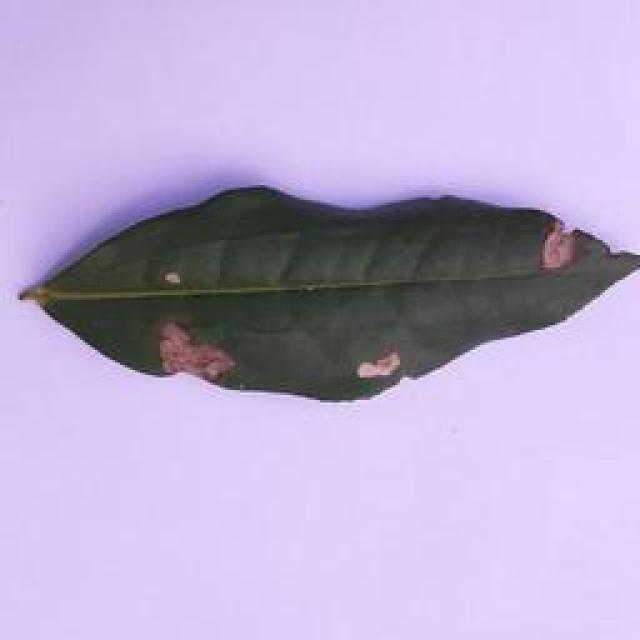Gray Blight: (8, 181, 640, 409)
